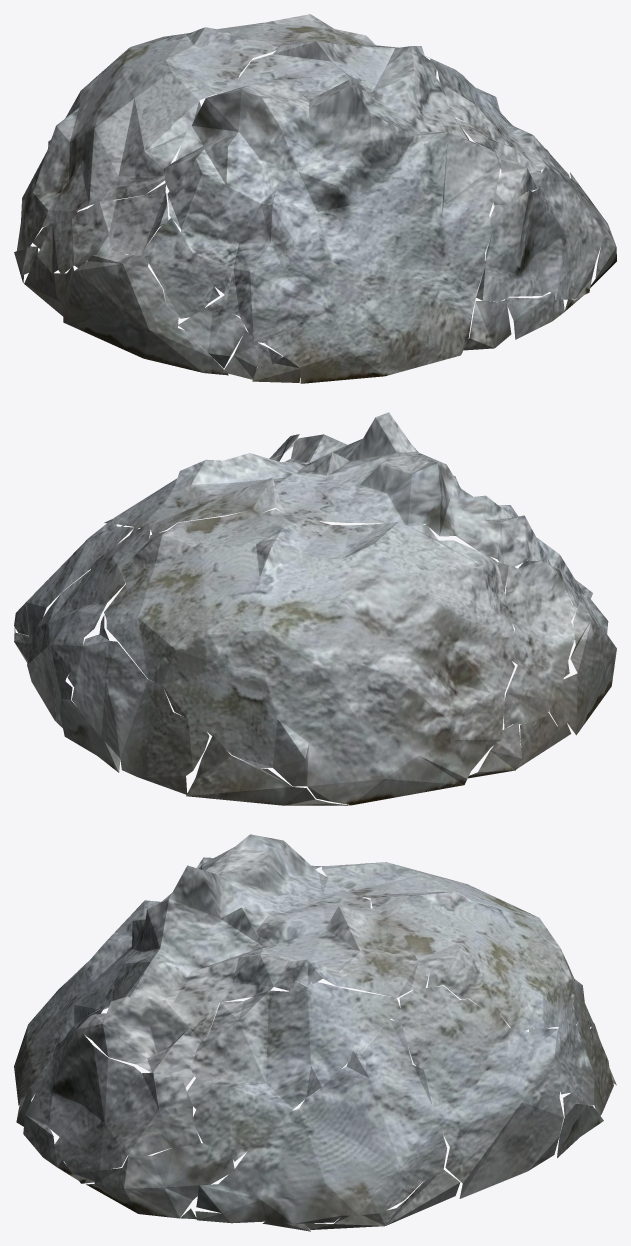
The model's file is peppermint-snowballs.gltf.
3 renders of one model, top to bottom at view 1: azimuth 30°, elevation 25°; view 2: azimuth 150°, elevation 25°; view 3: azimuth 270°, elevation 25°, orthographic. The views are drawn at different scales.
Parts seen in each view (by area): view 1: Mesh_0.001; view 2: Mesh_0.001; view 3: Mesh_0.001.
Boxes of the visible parts, bbox=[...] form: Mesh_0.001: bbox=[14, 14, 616, 383]; Mesh_0.001: bbox=[14, 412, 616, 805]; Mesh_0.001: bbox=[14, 834, 616, 1231].
Bounding box in the file's own units: 0.1501 × 0.0611 × 0.1477.
Materials: 1 (1 with a texture image).
